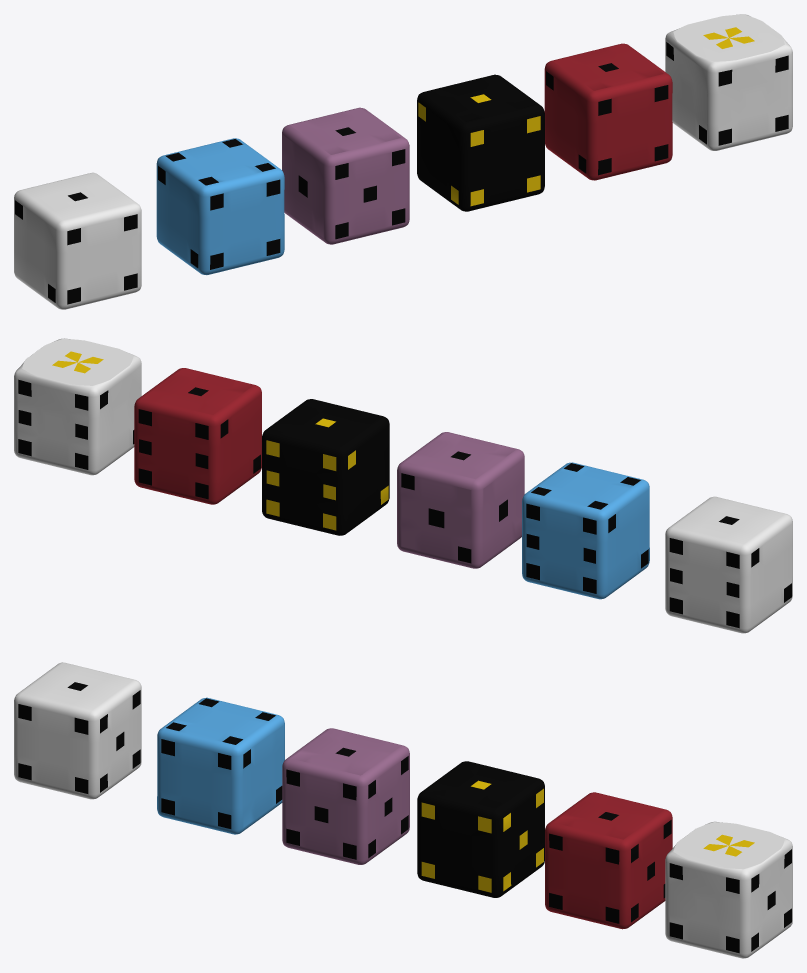
Rendered from Dice_ver8.fbx.
3 views of the same model, one above another, from view 1: azimuth 30°, elevation 25°; view 2: azimuth 150°, elevation 25°; view 3: azimuth 330°, elevation 25° (orthographic).
Parts seen in each view (by area): view 1: Even, Blood, Fraud, normal, Blood.001, Odd; view 2: Even, normal, Fraud, Blood, Blood.001, Odd; view 3: Blood.001, normal, Fraud, Odd, Even, Blood.
Boxes of the visible parts, left/top/right/bottom form: Even: left=156, top=138, right=284, bottom=275; Blood: left=544, top=43, right=672, bottom=180; Fraud: left=417, top=74, right=544, bottom=211; normal: left=14, top=172, right=141, bottom=309; Blood.001: left=665, top=14, right=792, bottom=150; Odd: left=282, top=107, right=409, bottom=244; Even: left=522, top=462, right=649, bottom=599; normal: left=665, top=496, right=792, bottom=633; Fraud: left=262, top=399, right=389, bottom=535; Blood: left=134, top=368, right=261, bottom=504; Blood.001: left=14, top=338, right=141, bottom=475; Odd: left=397, top=432, right=524, bottom=568; Blood.001: left=665, top=821, right=792, bottom=958; normal: left=14, top=662, right=141, bottom=799; Fraud: left=417, top=761, right=544, bottom=897; Odd: left=282, top=728, right=409, bottom=864; Even: left=157, top=697, right=284, bottom=834; Blood: left=545, top=792, right=672, bottom=929.
Bounding box in the file's own units: 1734 × 201 × 206.
